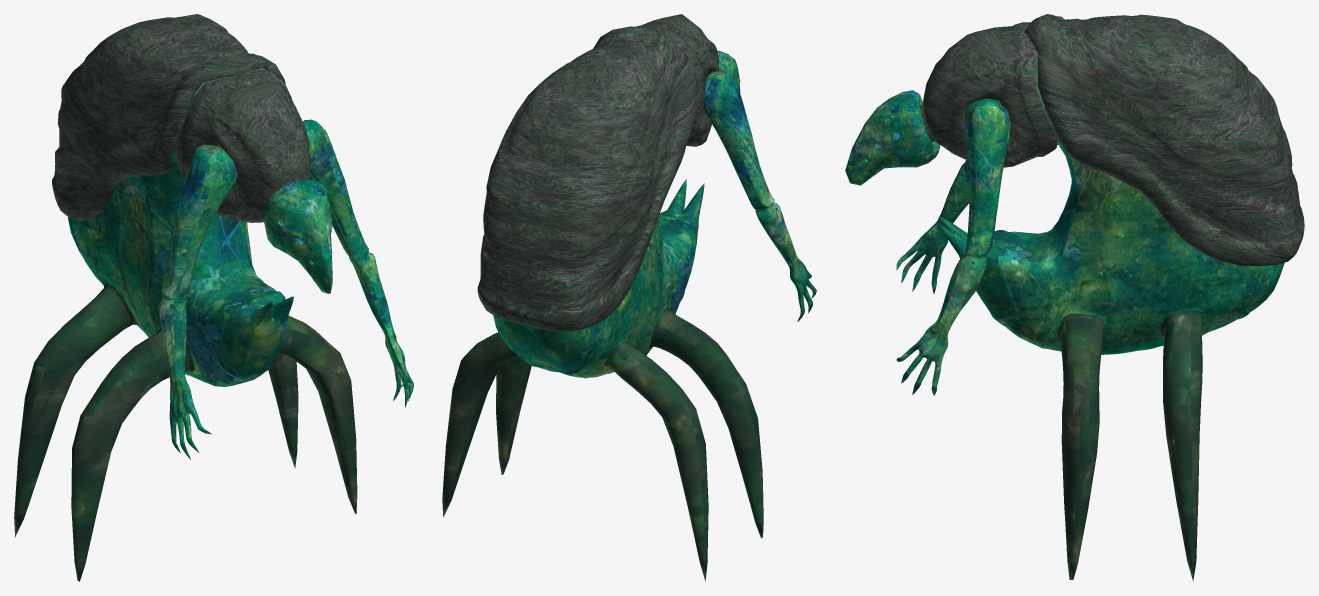
File: cria.obj
3 views of the same model, side by side, from view 1: azimuth 30°, elevation 25°; view 2: azimuth 150°, elevation 25°; view 3: azimuth 270°, elevation 25° (orthographic). The views are drawn at different scales.
Visible parts, largest first — view 1: cuerpoSINrayas cuerpoconrayas patas pCube14, caparazonGrande pCube14, cuerpoSINrayas cuerpoconrayas pCube14, cuello pCube14, brazo1 pCube14, brazo2 pCube14, cuerpoconrayas pCube14, cabeza pCube14; view 2: caparazonGrande pCube14, cuerpoSINrayas cuerpoconrayas patas pCube14, cuerpoSINrayas cuerpoconrayas pCube14, brazo1 pCube14, cuello pCube14, cuerpoconrayas pCube14; view 3: caparazonGrande pCube14, cuerpoSINrayas cuerpoconrayas pCube14, cuerpoSINrayas cuerpoconrayas patas pCube14, cuello pCube14, brazo2 pCube14, cuerpoconrayas pCube14, cabeza pCube14, brazo1 pCube14.
Boxes of the visible parts, x1=… form: cuerpoSINrayas cuerpoconrayas patas pCube14: x1=14, y1=283, x2=357, y2=581; caparazonGrande pCube14: x1=52, y1=14, x2=285, y2=220; cuerpoSINrayas cuerpoconrayas pCube14: x1=68, y1=67, x2=293, y2=386; cuello pCube14: x1=175, y1=69, x2=309, y2=222; brazo1 pCube14: x1=158, y1=144, x2=237, y2=459; brazo2 pCube14: x1=303, y1=119, x2=413, y2=407; cuerpoconrayas pCube14: x1=68, y1=175, x2=285, y2=386; cabeza pCube14: x1=264, y1=180, x2=332, y2=293; caparazonGrande pCube14: x1=477, y1=26, x2=696, y2=331; cuerpoSINrayas cuerpoconrayas patas pCube14: x1=442, y1=307, x2=763, y2=581; cuerpoSINrayas cuerpoconrayas pCube14: x1=493, y1=179, x2=704, y2=377; brazo1 pCube14: x1=704, y1=70, x2=816, y2=321; cuello pCube14: x1=636, y1=14, x2=719, y2=146; cuerpoconrayas pCube14: x1=527, y1=216, x2=696, y2=378; caparazonGrande pCube14: x1=1025, y1=14, x2=1304, y2=266; cuerpoSINrayas cuerpoconrayas pCube14: x1=939, y1=53, x2=1284, y2=354; cuerpoSINrayas cuerpoconrayas patas pCube14: x1=1058, y1=310, x2=1203, y2=581; cuello pCube14: x1=920, y1=22, x2=1057, y2=167; brazo2 pCube14: x1=896, y1=98, x2=1010, y2=395; cuerpoconrayas pCube14: x1=989, y1=174, x2=1264, y2=353; cabeza pCube14: x1=845, y1=90, x2=939, y2=185; brazo1 pCube14: x1=896, y1=160, x2=969, y2=293.
Bounding box in the file's own units: 2.28 × 3.85 × 3.26.
4 materials, 4 textured.
